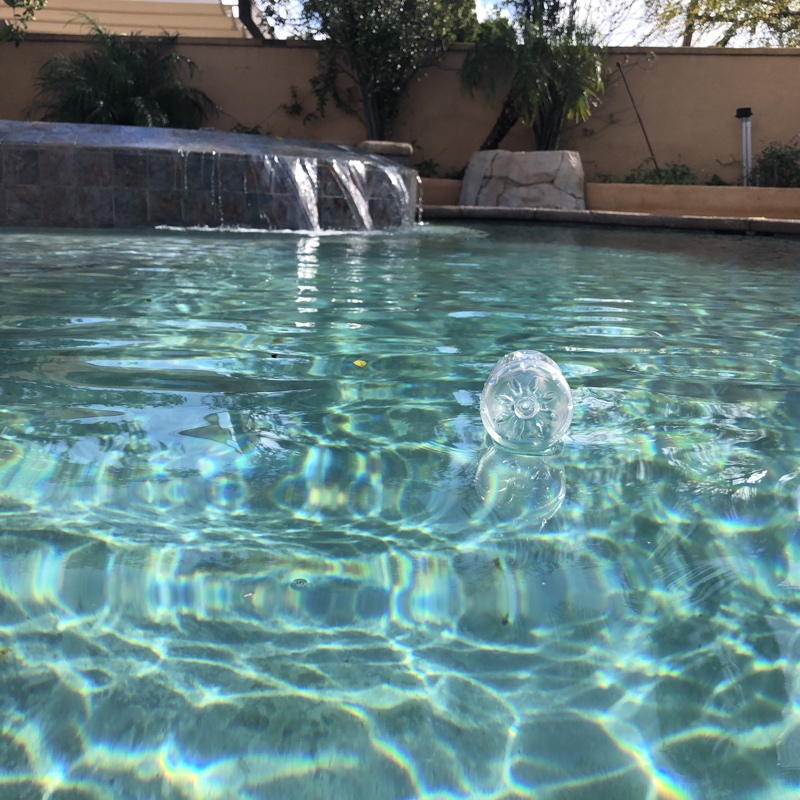Plastic Bottle: (477, 345, 580, 459)
